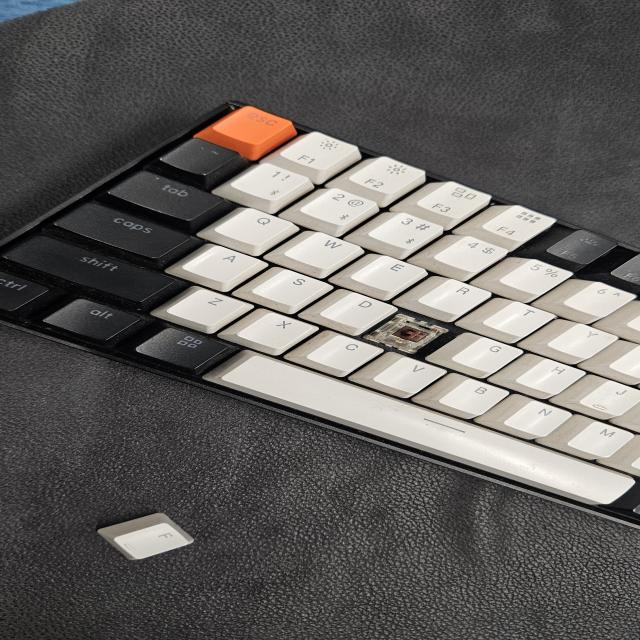C: (386, 321, 441, 348)
